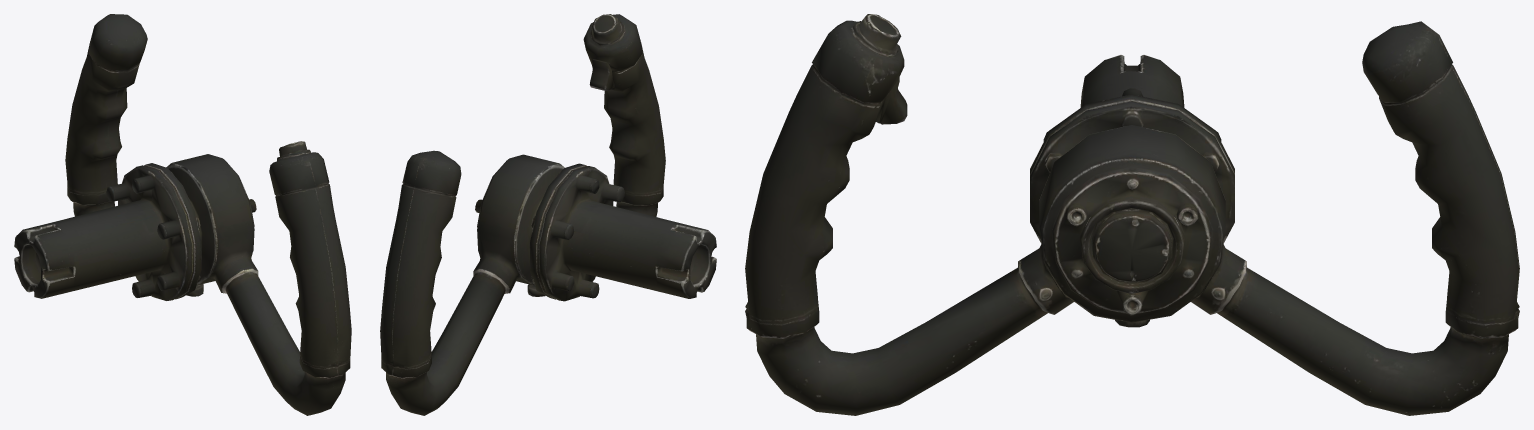
Rendered from yoke_remesh.glb.
The picture shows the model from 3 angles, left to right: view 1: azimuth 30°, elevation 25°; view 2: azimuth 150°, elevation 25°; view 3: azimuth 270°, elevation 25°; orthographic projection. The views are drawn at different scales.
Parts seen in each view (by area): view 1: tripo_node_64b459d9-194d-4183-8b4d-07e50; view 2: tripo_node_64b459d9-194d-4183-8b4d-07e50; view 3: tripo_node_64b459d9-194d-4183-8b4d-07e50.
Boxes of the visible parts, box(x1,y1,x2,y2) form: tripo_node_64b459d9-194d-4183-8b4d-07e50: box(14, 14, 351, 415); tripo_node_64b459d9-194d-4183-8b4d-07e50: box(380, 14, 716, 415); tripo_node_64b459d9-194d-4183-8b4d-07e50: box(745, 14, 1519, 415).
Size of the model in its own units: 0.4658 by 0.5616 by 1.
Materials: 1 (1 with a texture image).
